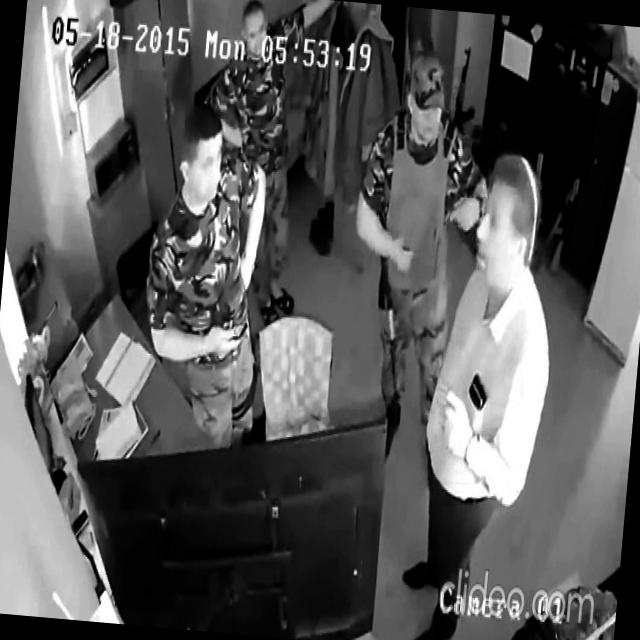gun: (360, 199, 416, 403), (448, 44, 482, 138)
person: (397, 147, 567, 640), (131, 95, 283, 446), (186, 0, 338, 327)
person with a gun: (335, 46, 502, 468)
